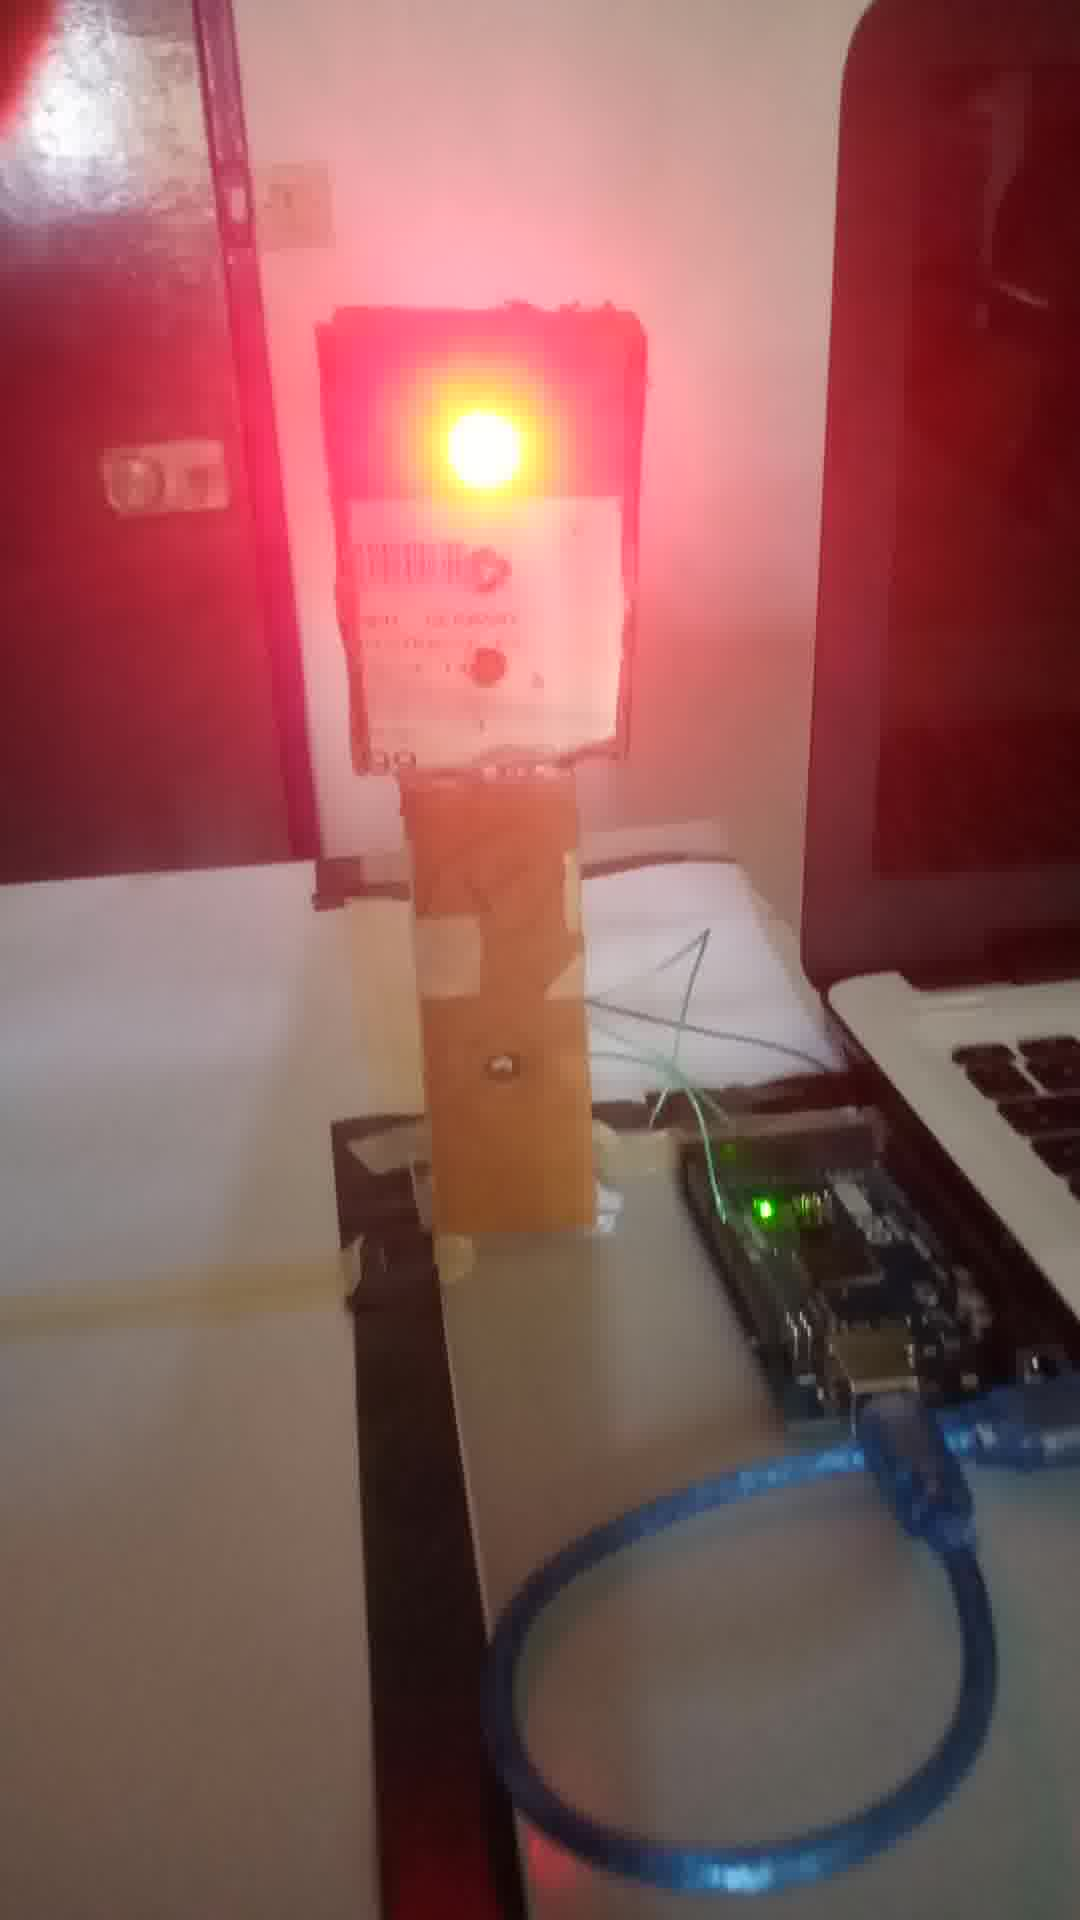red: (313, 306, 633, 771)
